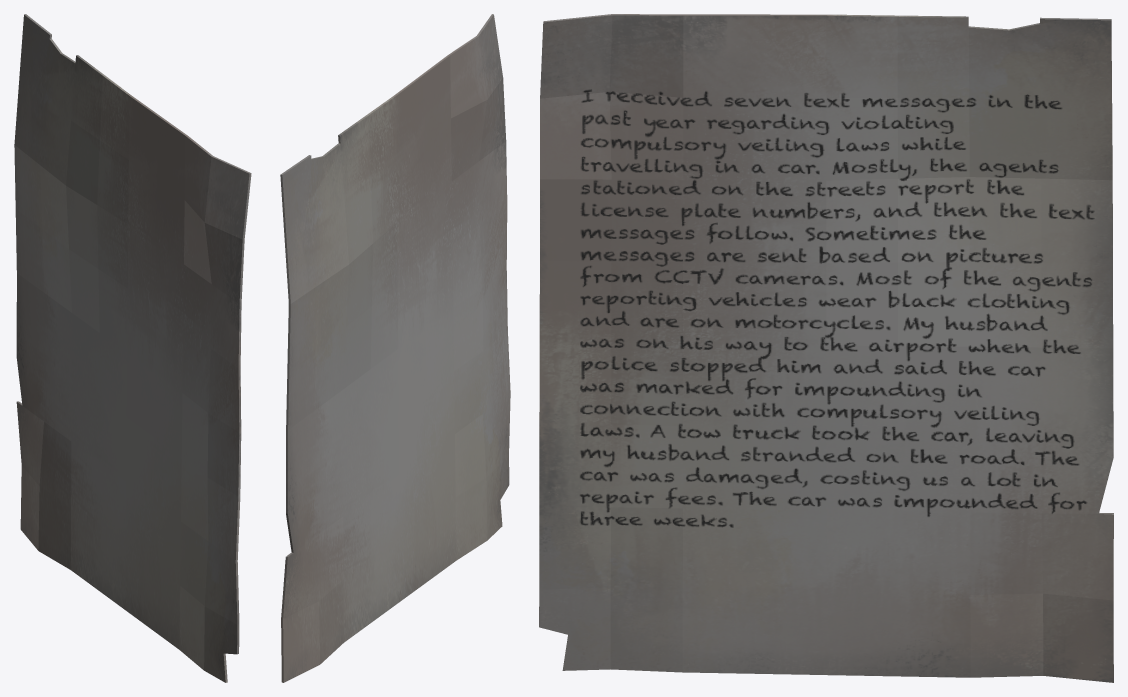
File: letter 1.fbx
The picture shows the model from 3 angles, left to right: view 1: azimuth 30°, elevation 25°; view 2: azimuth 150°, elevation 25°; view 3: azimuth 270°, elevation 25°; orthographic projection. The views are drawn at different scales.
Parts seen in each view (by area): view 1: letter.001; view 2: letter.001; view 3: letter.001.
Boxes of the visible parts, x1=… form: letter.001: x1=14, y1=14, x2=251, y2=682; letter.001: x1=280, y1=14, x2=510, y2=682; letter.001: x1=539, y1=14, x2=1113, y2=682.
Bounding box in the file's own units: 15.3 × 353 × 276.
Materials: 1 (1 with a texture image).
